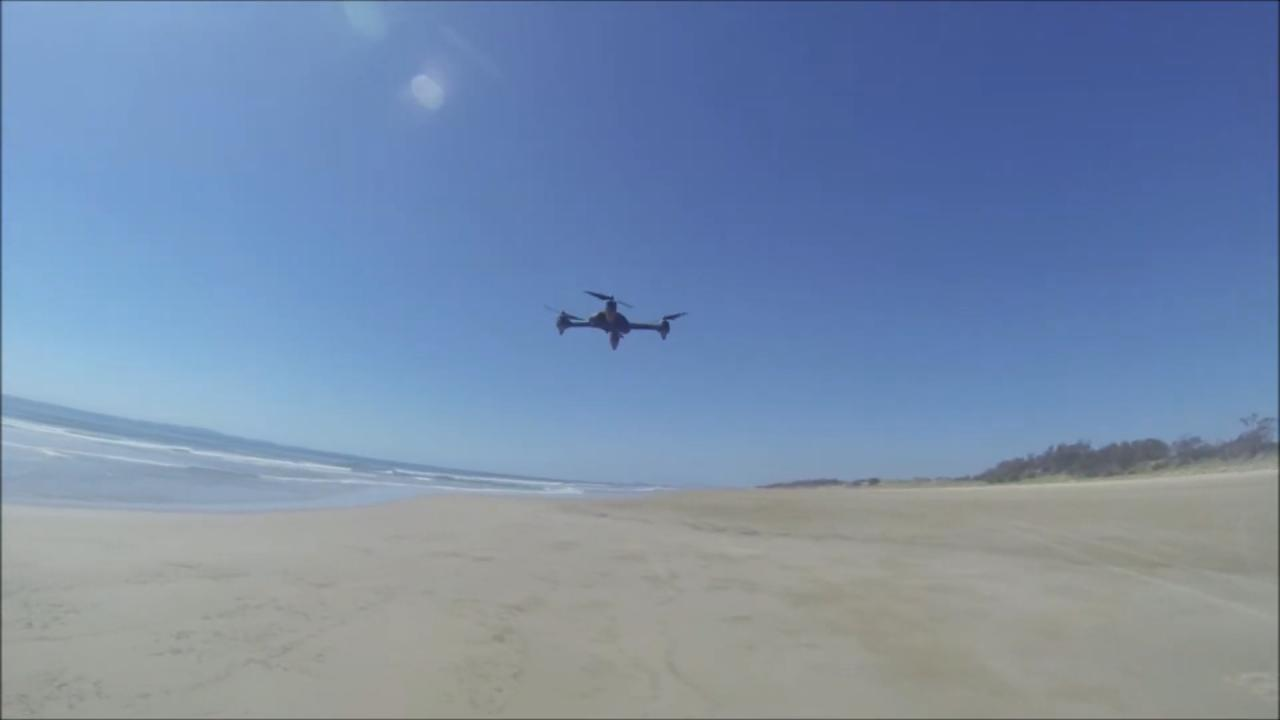Drone: (534, 278, 697, 358)
